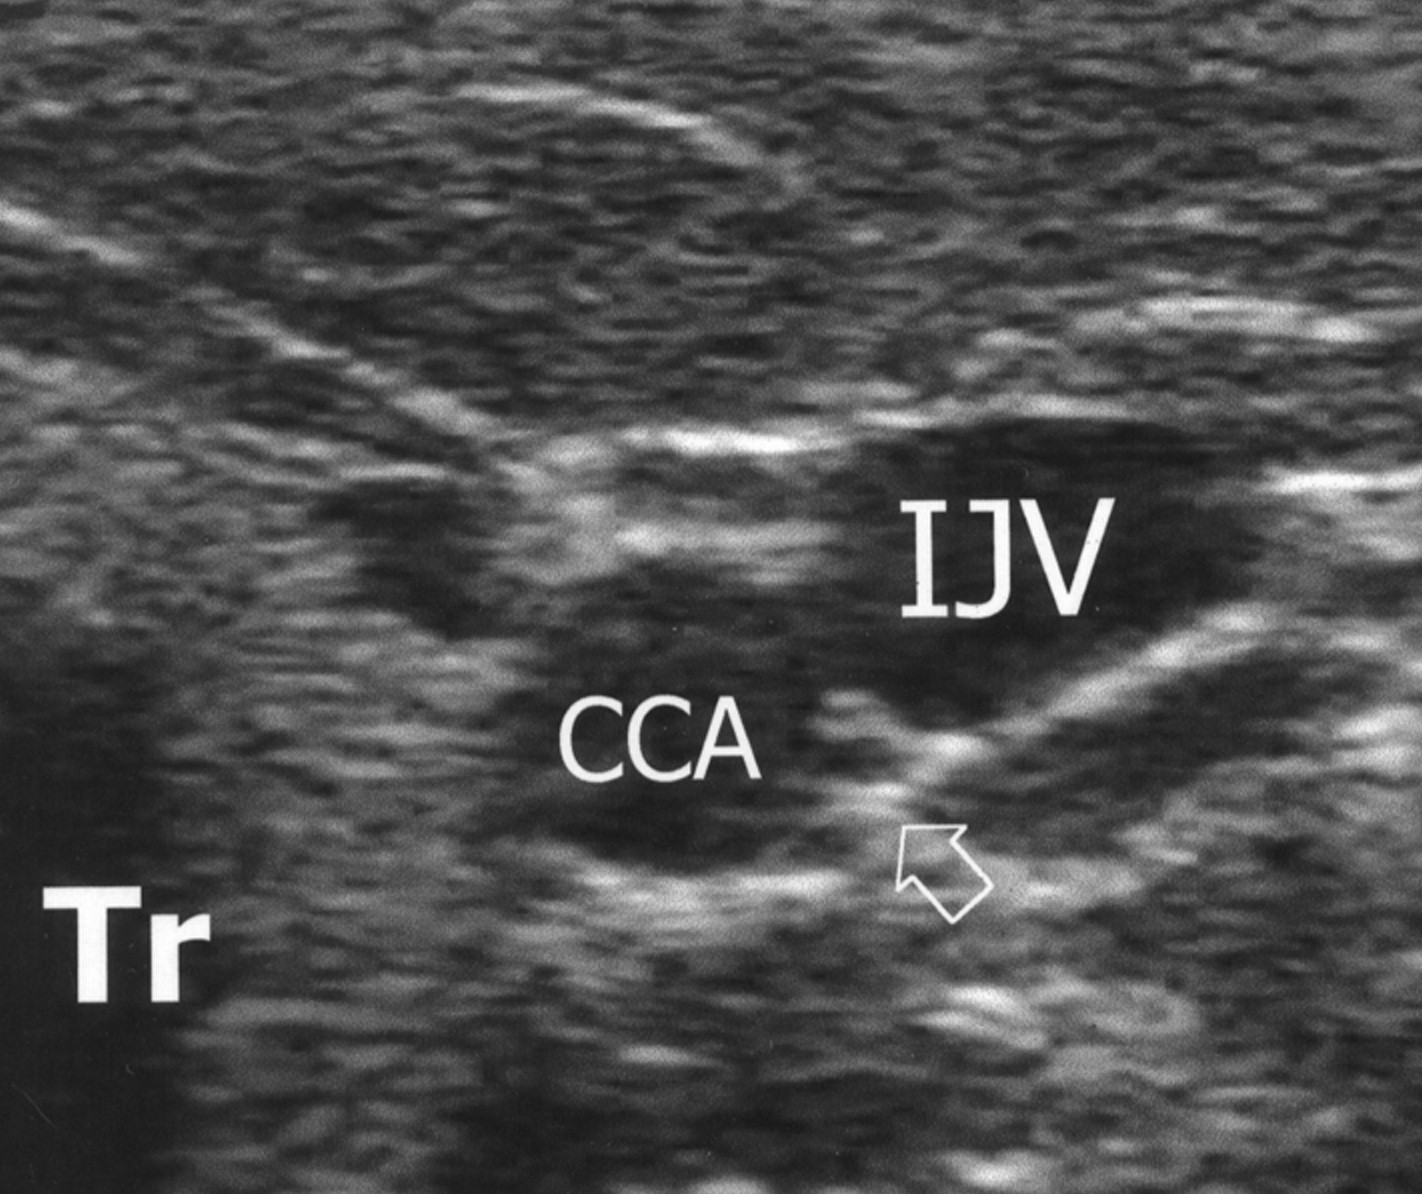vagusnerve: (162, 192, 839, 569)
